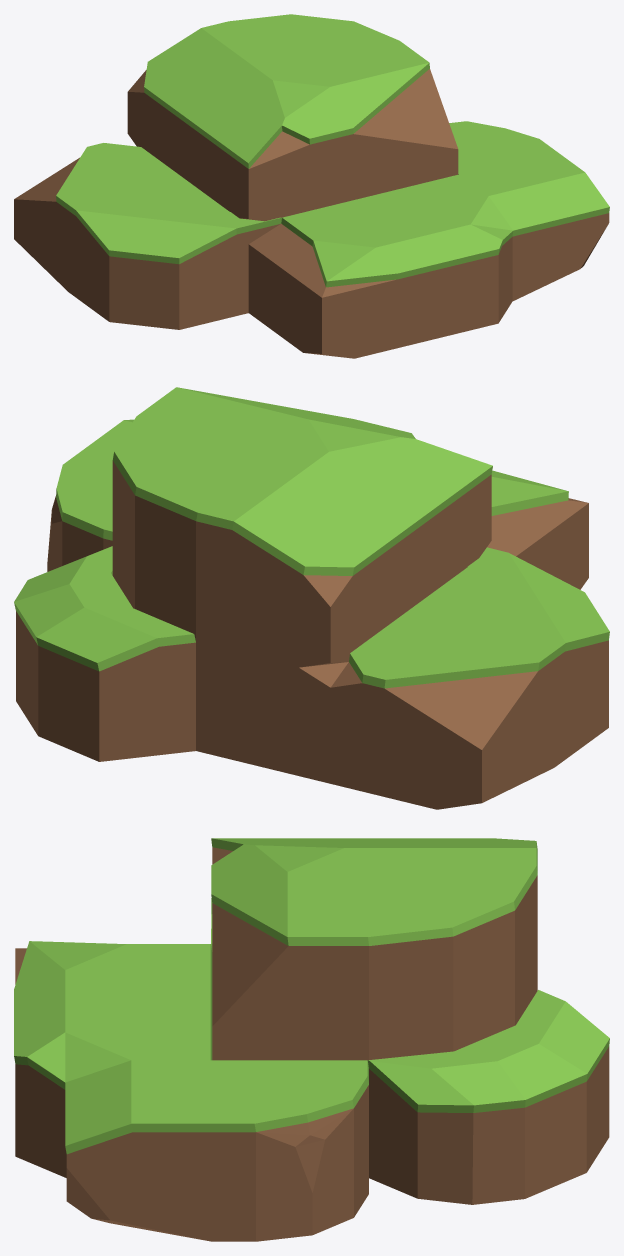
The model's file is stones02_top_grass_dirt.fbx.
The picture shows the model from 3 angles, top to bottom: view 1: azimuth 30°, elevation 25°; view 2: azimuth 150°, elevation 25°; view 3: azimuth 270°, elevation 25°; orthographic projection. The views are drawn at different scales.
Visible parts, largest first — view 1: stones02_top_grass_dirt_LOD0; view 2: stones02_top_grass_dirt_LOD0; view 3: stones02_top_grass_dirt_LOD0.
Part boxes in pixels (x1,y1,x2,y2): stones02_top_grass_dirt_LOD0: [14, 14, 609, 358]; stones02_top_grass_dirt_LOD0: [14, 387, 609, 809]; stones02_top_grass_dirt_LOD0: [14, 838, 609, 1241].
Size of what is drawn, in the model's own units: 201 by 81.61 by 183.
